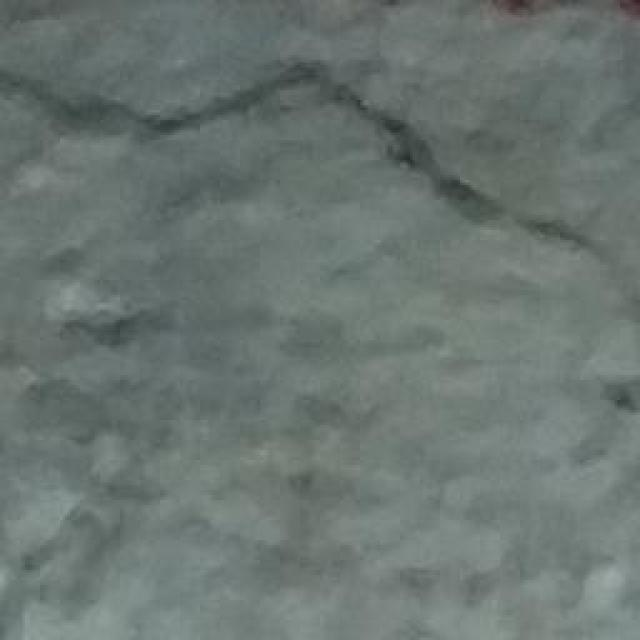Transverse: (0, 36, 640, 270)
